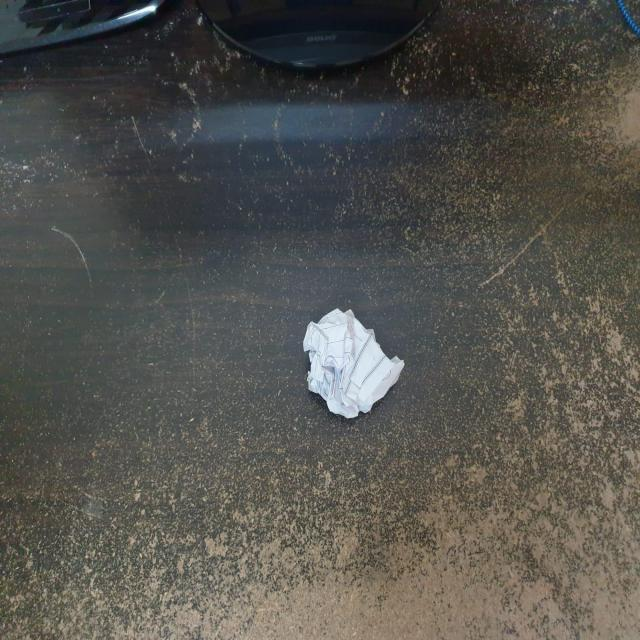cardboard paper: (302, 308, 402, 416)
